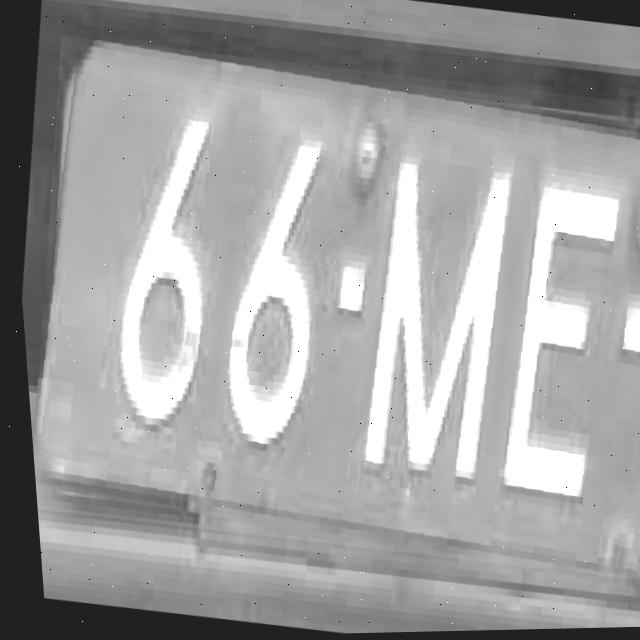LicensePlate: (2, 26, 640, 594)
